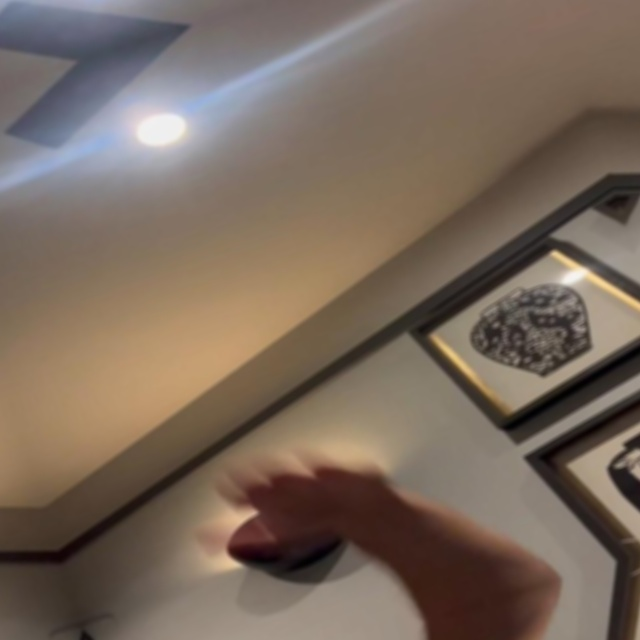Paper: (178, 417, 409, 587)
